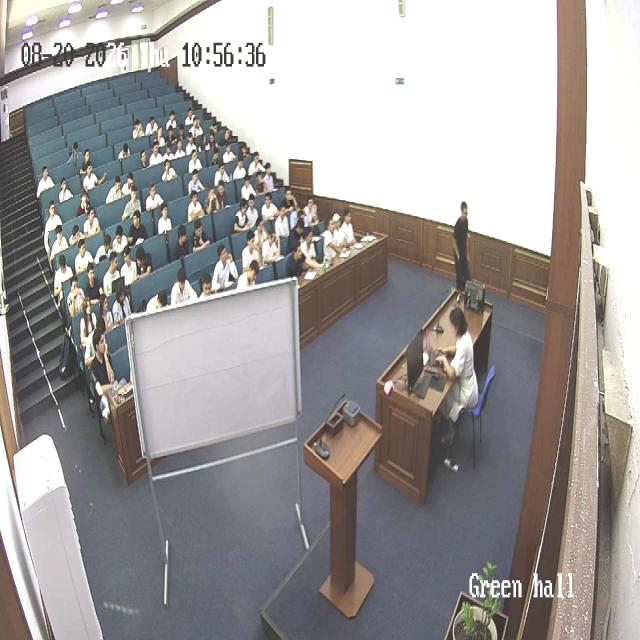person: (435, 306, 479, 447), (89, 328, 121, 414), (452, 201, 472, 293), (286, 237, 318, 282), (78, 297, 98, 368), (212, 244, 238, 292), (44, 201, 64, 259), (171, 268, 199, 308), (67, 274, 87, 329), (322, 213, 344, 260), (242, 227, 264, 273), (50, 222, 70, 271), (54, 251, 73, 302), (94, 286, 114, 334), (300, 228, 324, 268), (103, 250, 122, 298), (261, 220, 281, 265), (82, 261, 102, 305), (112, 278, 130, 326), (74, 234, 94, 276), (237, 257, 261, 291), (338, 207, 358, 247), (233, 194, 253, 234), (185, 162, 207, 198), (120, 244, 138, 287), (122, 184, 142, 222), (174, 220, 192, 262), (143, 288, 168, 317), (190, 216, 210, 252), (209, 178, 229, 214), (134, 241, 152, 279), (128, 210, 146, 248), (188, 184, 206, 222), (245, 192, 263, 229), (37, 164, 55, 200), (261, 189, 279, 224), (263, 154, 280, 191), (146, 181, 164, 215), (83, 205, 101, 239), (57, 175, 74, 210), (275, 203, 291, 239), (302, 198, 320, 230), (156, 201, 172, 235), (79, 166, 101, 188), (211, 162, 231, 186), (238, 173, 255, 201), (72, 187, 90, 213), (159, 156, 177, 182), (282, 182, 299, 208), (105, 175, 123, 199), (198, 273, 214, 299), (234, 154, 247, 183), (116, 140, 135, 158), (187, 147, 201, 171), (123, 169, 137, 193), (253, 168, 265, 194), (248, 148, 262, 170), (153, 125, 167, 147), (131, 114, 144, 137), (70, 142, 84, 163), (150, 142, 162, 166), (146, 111, 158, 135), (175, 137, 189, 156), (162, 140, 174, 162), (206, 127, 218, 149), (223, 138, 233, 164), (183, 104, 196, 124), (164, 108, 178, 126), (190, 118, 202, 138), (221, 122, 231, 144), (82, 152, 95, 168), (137, 152, 150, 168), (186, 135, 198, 152), (175, 122, 187, 138), (165, 122, 175, 141), (200, 131, 210, 149), (211, 149, 221, 165)
